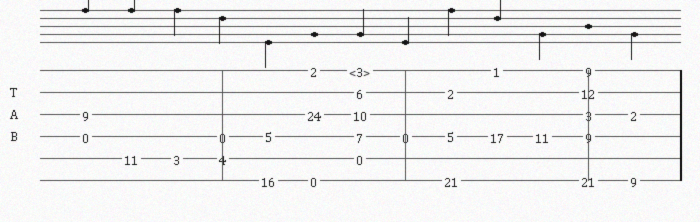0: (82, 130, 93, 143), (219, 130, 230, 143), (310, 174, 321, 187), (356, 152, 367, 165), (402, 130, 413, 143)
1: (493, 64, 504, 77)
10: (353, 108, 371, 121)
11: (124, 152, 142, 165), (535, 130, 553, 143)
12: (581, 86, 599, 99)
16: (261, 174, 279, 187)
17: (490, 130, 508, 143)
2: (310, 64, 321, 77), (447, 86, 458, 99), (630, 108, 641, 121)
21: (444, 174, 462, 187), (581, 174, 599, 187)
24: (307, 108, 325, 121)
3: (173, 152, 184, 165), (585, 108, 596, 121)
4: (219, 152, 230, 165)
5: (265, 129, 276, 143), (447, 129, 458, 143)
6: (356, 86, 367, 99)
7: (356, 130, 367, 143)
9: (82, 108, 93, 121), (585, 130, 596, 143), (585, 64, 596, 77), (630, 174, 641, 187)
harmonic: (349, 64, 374, 77)
